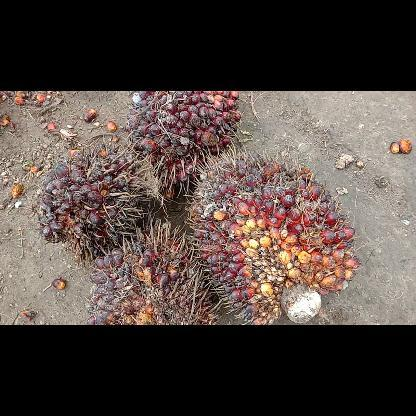TBS masak: (185, 139, 361, 324), (90, 220, 220, 324), (36, 143, 152, 259), (124, 91, 242, 195)
